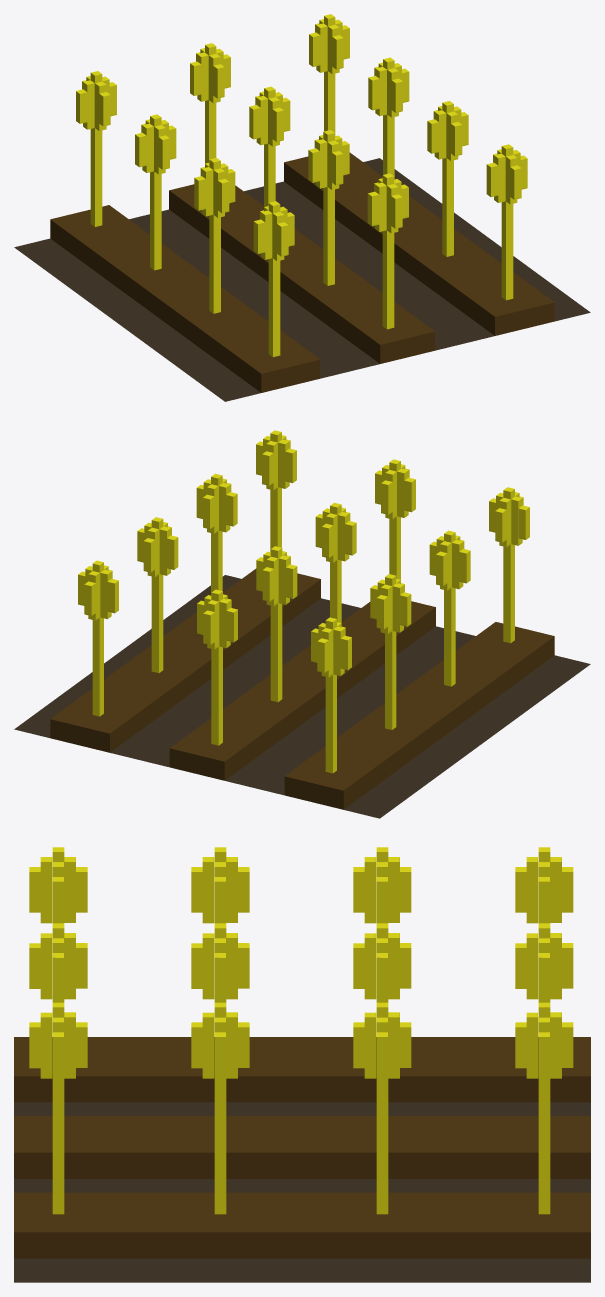
File: wheat.FBX
The picture shows the model from 3 angles, top to bottom: view 1: azimuth 30°, elevation 25°; view 2: azimuth 150°, elevation 25°; view 3: azimuth 270°, elevation 25°; orthographic projection. The views are drawn at different scales.
Visible parts, largest first — view 1: Plane01; view 2: Plane01; view 3: Plane01.
Boxes of the visible parts, <box> form: Plane01: <box>14,14,590,401</box>; Plane01: <box>14,430,590,818</box>; Plane01: <box>14,847,590,1282</box>.
Bounding box in the file's own units: 39.07 × 17.71 × 39.07.
